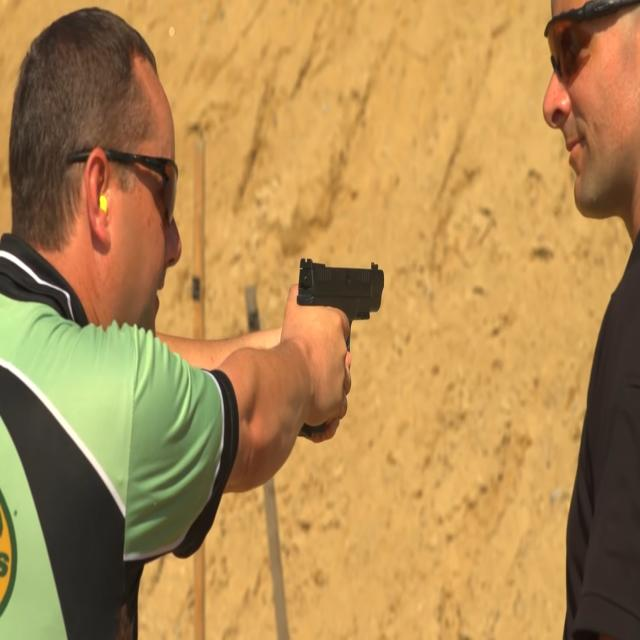Gun_Holder: (276, 241, 402, 429)
Person: (2, 0, 342, 640), (530, 0, 640, 614)
